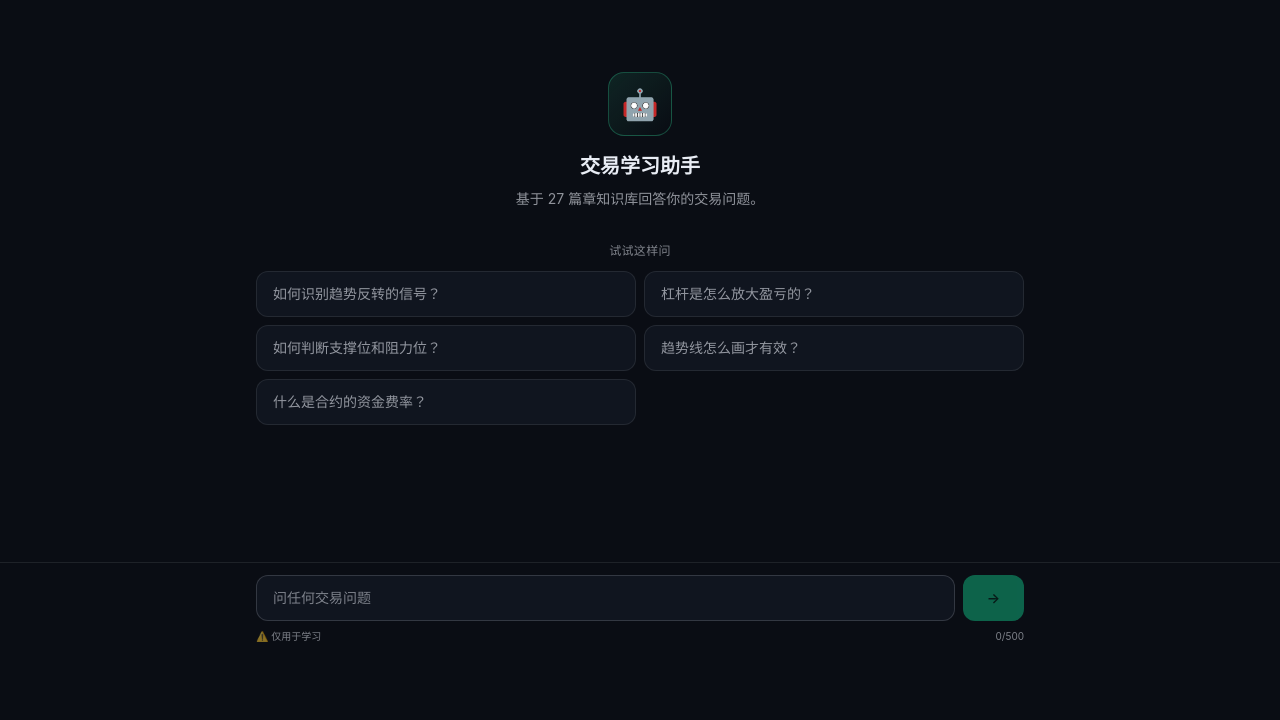
Test case: AiChat 回答操作与对话管理 › 续写被截断的回答：原文追加内容，并提交 continueFrom 上下文
Click the button "如何识别趋势反转的信号？" at (357, 293), box left=256, top=271, right=636, bottom=317
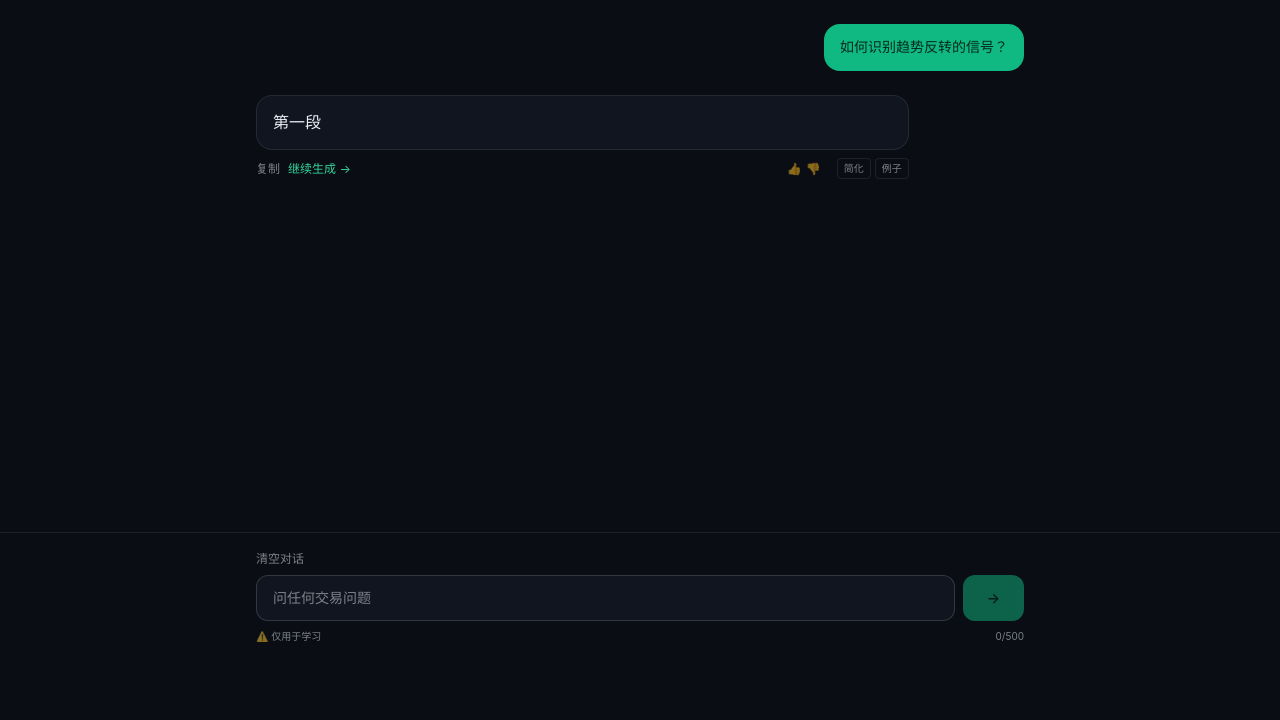
Expected: the text "第一段" is shown, left=273, top=112, right=321, bottom=132
Click the button "继续生成 →" at (319, 169), box left=288, top=161, right=351, bottom=177
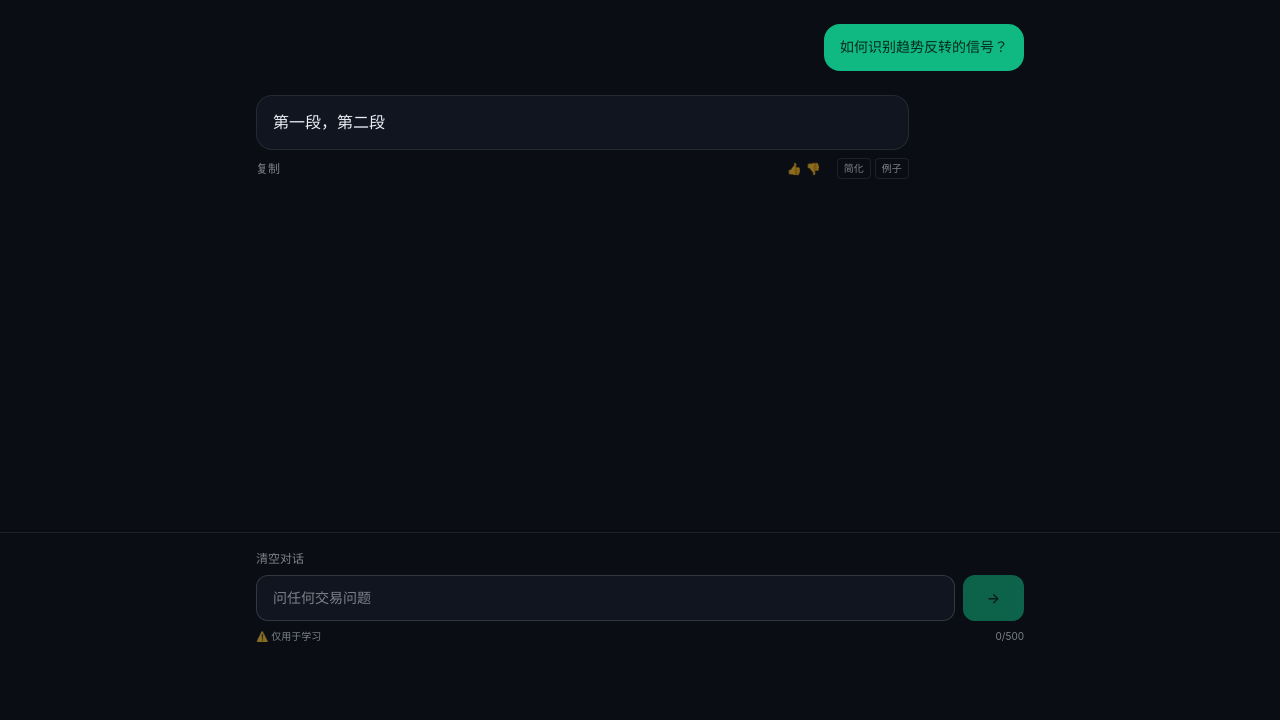
Expected: the text "第一段，第二段" is shown, left=273, top=112, right=385, bottom=132
